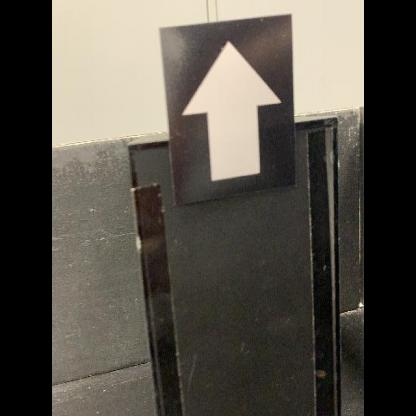up: (157, 11, 297, 212)
